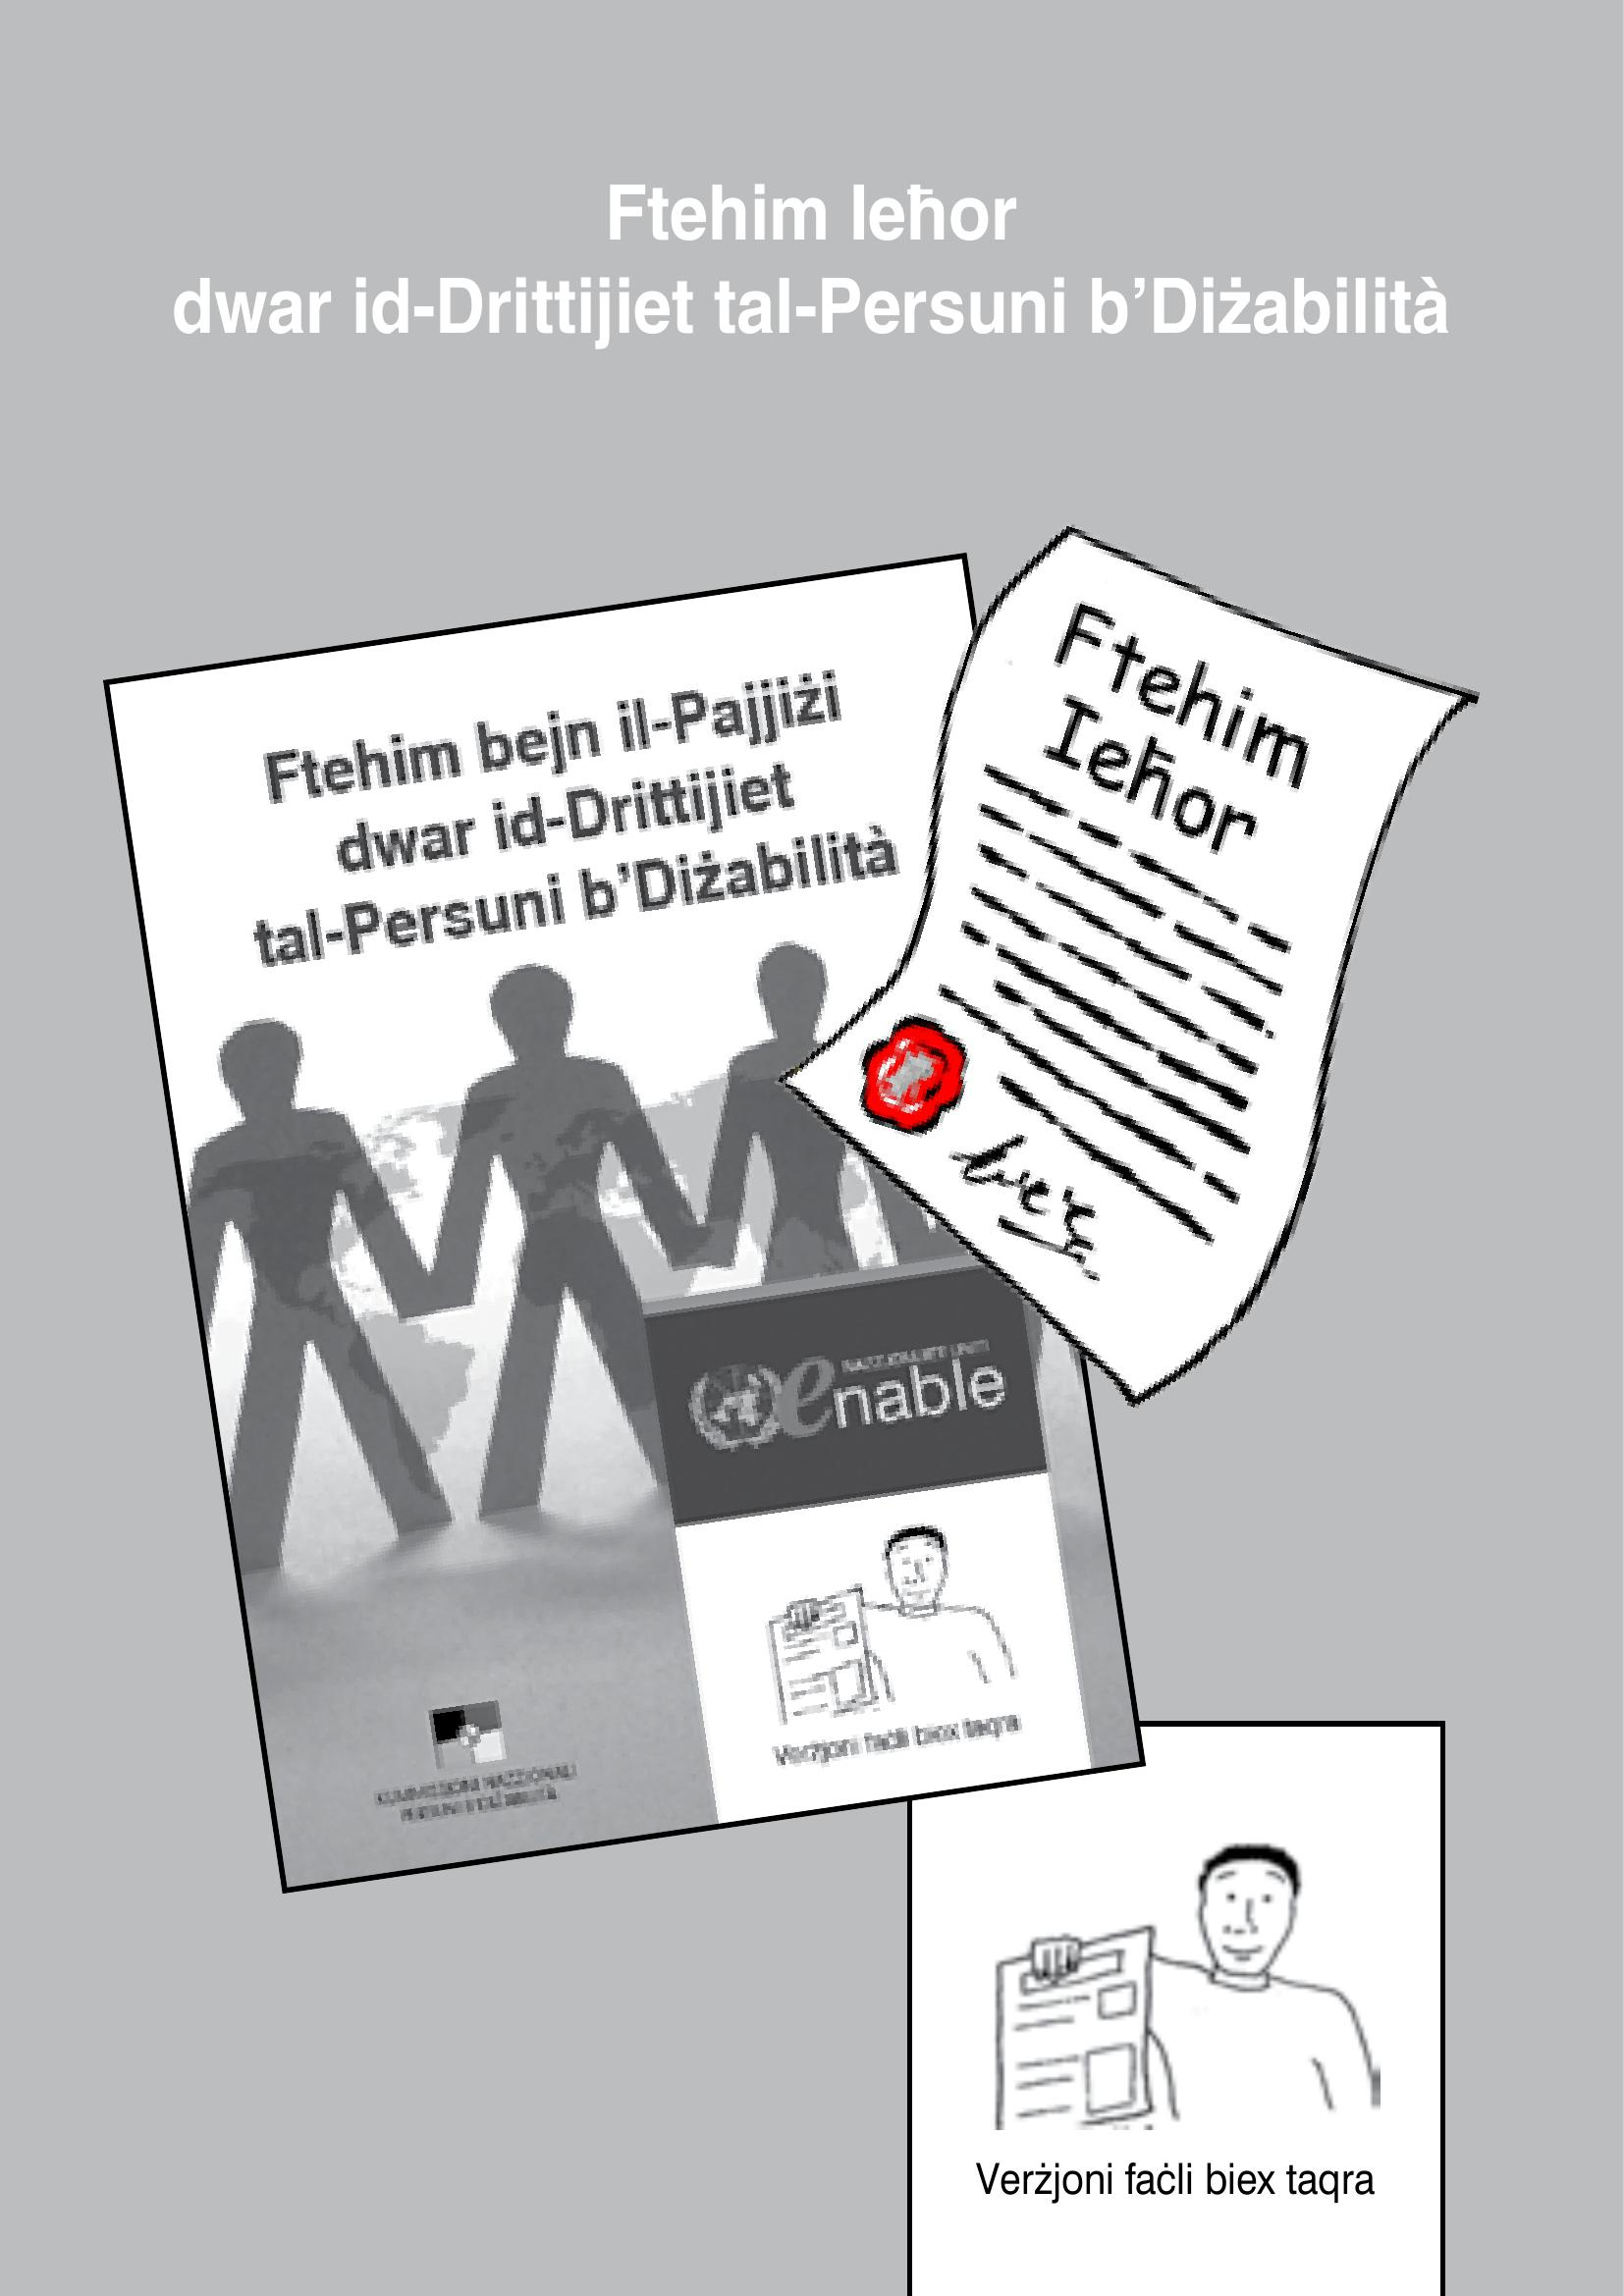text: (130, 139, 1469, 390)
